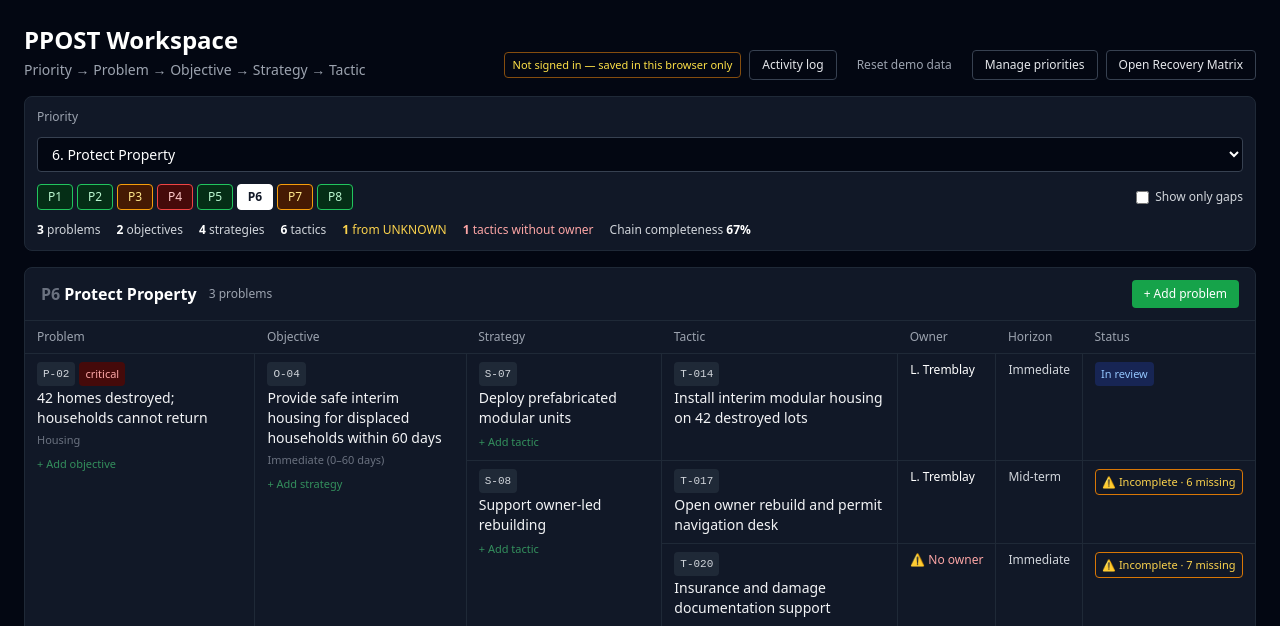
Scenario: a tactic shows its cost history and a new allowance can be added
The image size is (1280, 626).
Click the text "Install interim modular housing on 42 destroyed lots".
click(780, 408)  # box [674,388,885,428]
(page scrolled)
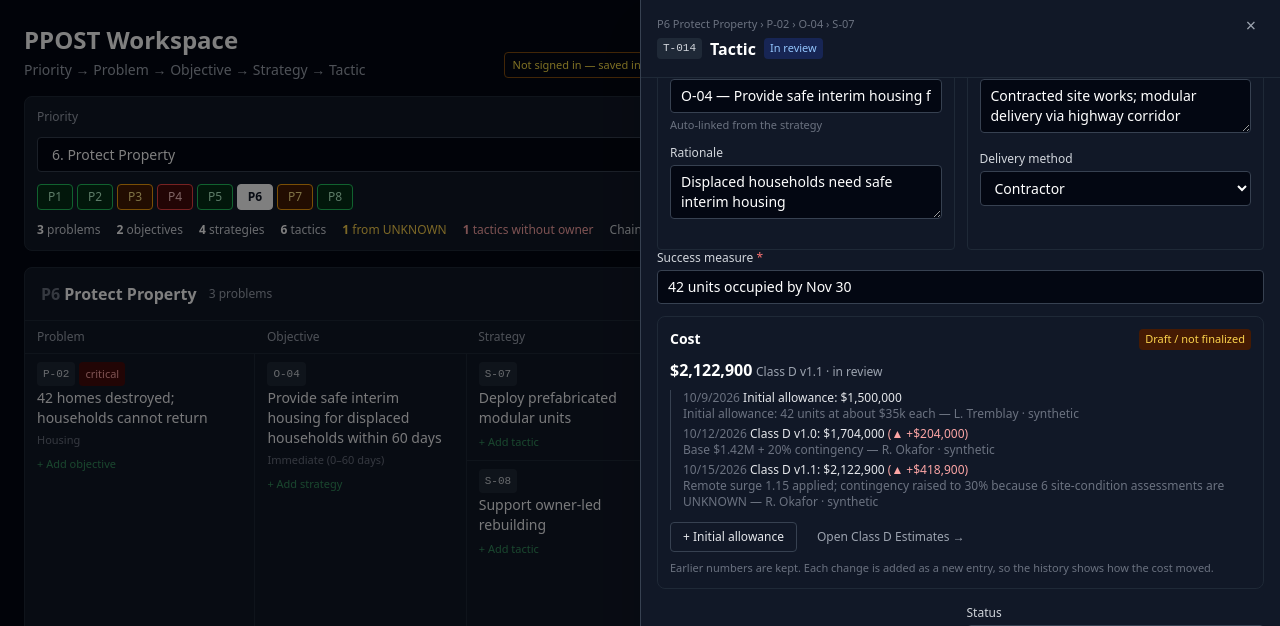
Check: the list named "Cost history" shows "Class D v1.1: $2,122,900", box [670,390,1251,510]
Check: the element named "Tactic cost" shows "▲ +$418,900", box [657,316,1264,589]
